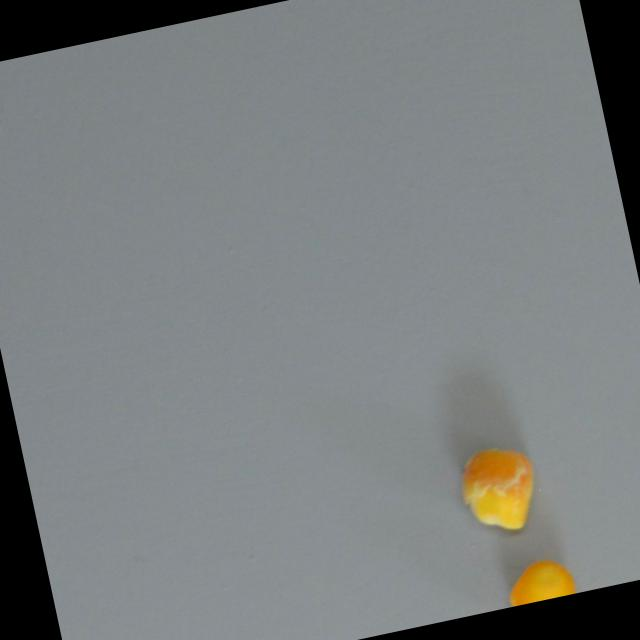dañado: (449, 435, 553, 542), (499, 551, 581, 607)
